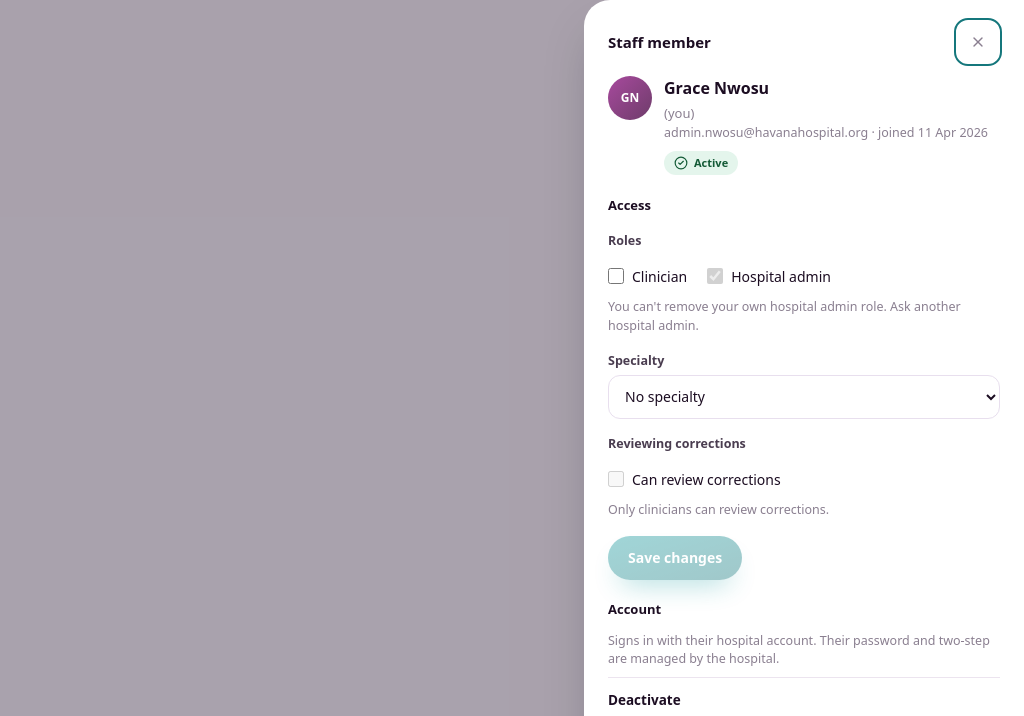
Test: StaffPanel › lets an admin give themselves a role, saying it is recorded (product decision)
Click the checkbox labelled "Clinician".
click(616, 276)  # box [608,268,624,284]
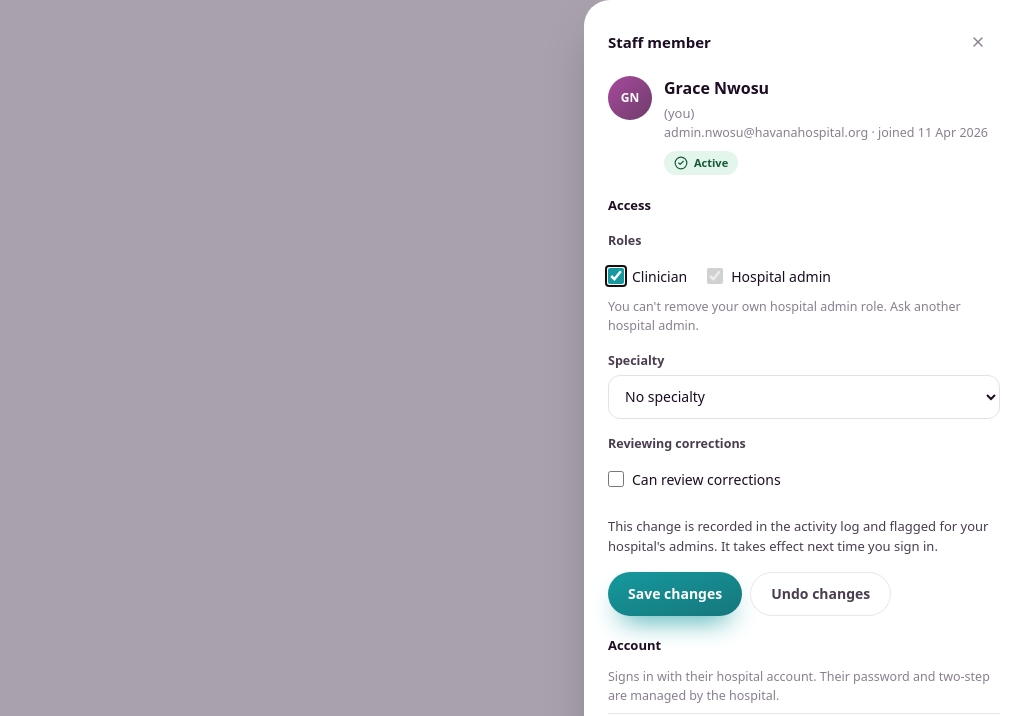
Expected: the text "This change is recorded in the activity log and flagged for your hospital's admins. It takes effect next time you sign i" is shown, [608,517,988,555]
Click the button "Save changes".
click(675, 594)  # box [608,572,742,616]
(page scrolled)
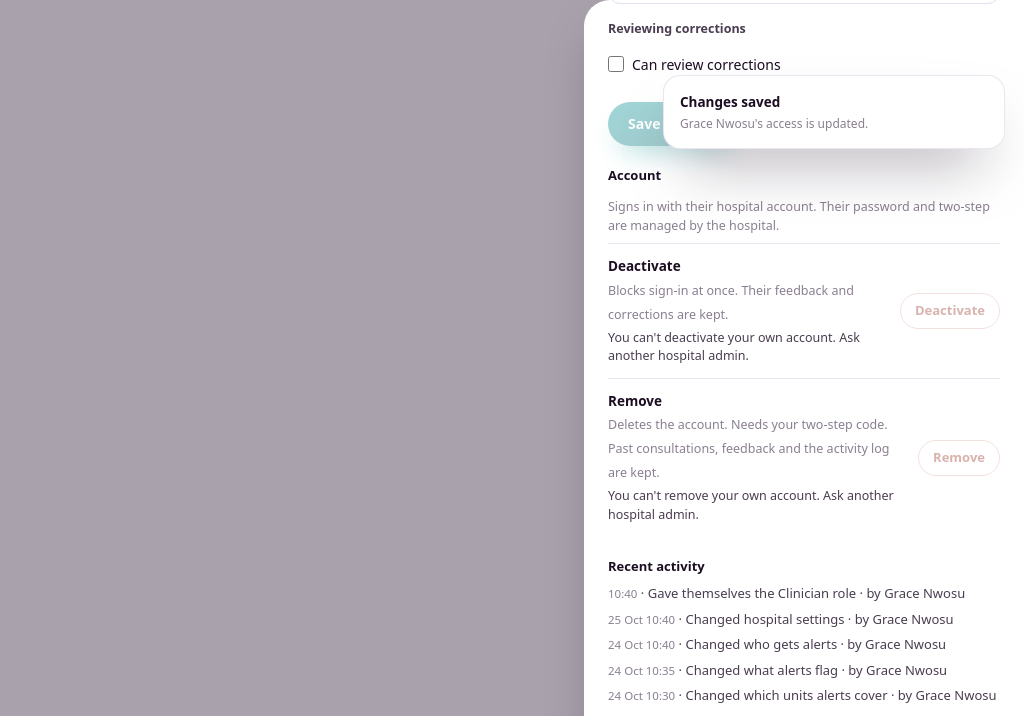
Expected: the text "Changes saved" is shown, [680,93,780,111]
Expected: the list item "10:40 · Gave themselves the Clinician role · by Grace Nwosu" is shown, [608,584,1000,604]
